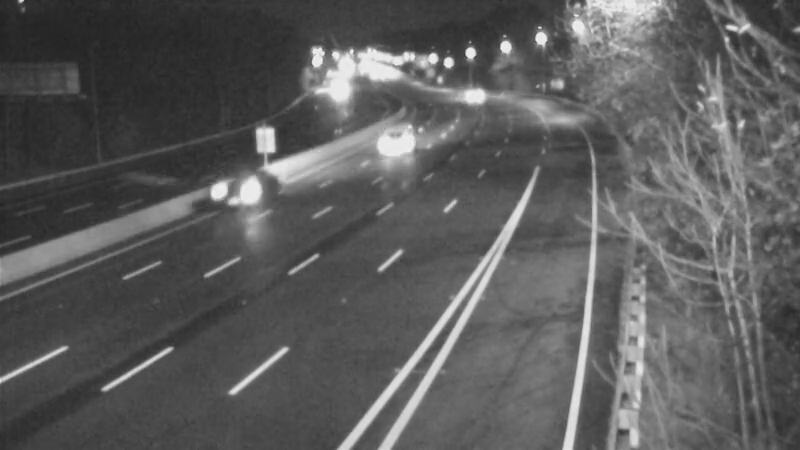vehicle: (201, 151, 281, 231), (445, 66, 495, 116), (376, 108, 426, 158)
